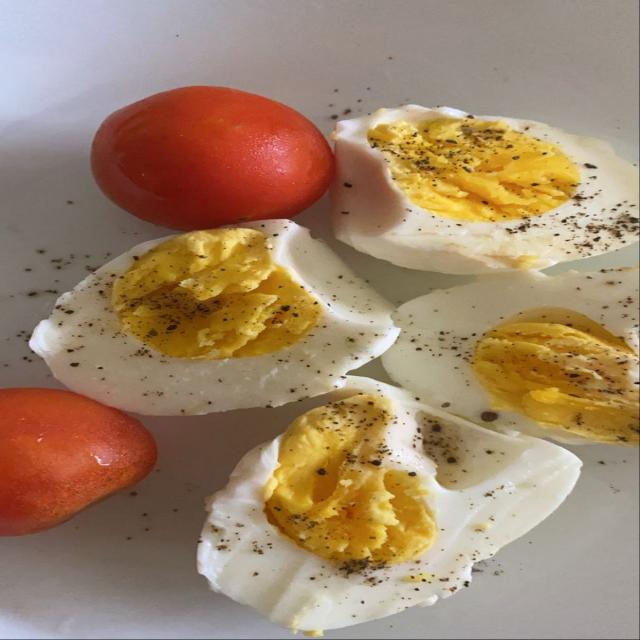egg boiled: (199, 377, 580, 631), (31, 220, 398, 414), (332, 106, 638, 274), (384, 268, 639, 444)
plum red: (91, 86, 335, 231), (0, 388, 156, 536)
